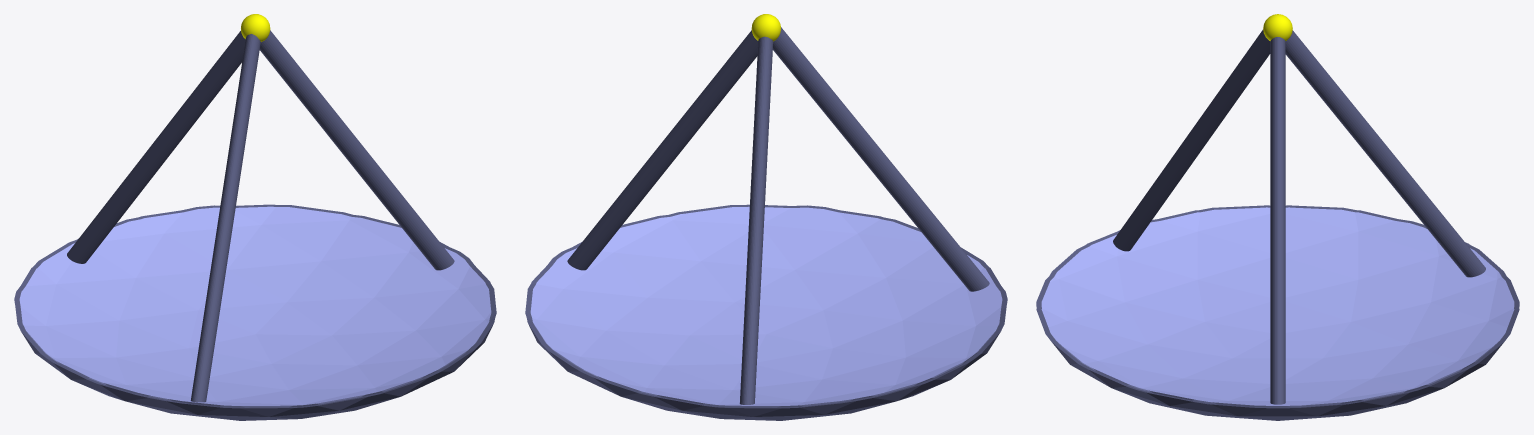
Rendered from swarm_member.glb.
The picture shows the model from 3 angles, left to right: view 1: azimuth 30°, elevation 25°; view 2: azimuth 150°, elevation 25°; view 3: azimuth 270°, elevation 25°; orthographic projection.
Visible parts, largest first — view 1: Icosphere, Icosphere.001, Cylinder.001, Cylinder, Cylinder.003, Icosphere.002; view 2: Icosphere, Icosphere.001, Cylinder, Cylinder.001, Cylinder.003, Icosphere.002; view 3: Icosphere, Icosphere.001, Cylinder.003, Cylinder.001, Cylinder, Icosphere.002.
Part boxes in pixels (x1,y1,x2,y2): Icosphere: (19,206,491,407); Icosphere.001: (14,204,496,420); Cylinder.001: (259,30,454,270); Cylinder: (190,34,260,402); Cylinder.003: (67,31,245,263); Icosphere.002: (241,14,270,41); Icosphere: (530,206,1002,407); Icosphere.001: (525,204,1007,420); Cylinder: (773,27,989,291); Cylinder.001: (567,30,758,270); Cylinder.003: (739,36,773,404); Icosphere.002: (751,14,780,41); Icosphere: (1041,207,1514,406); Icosphere.001: (1036,205,1519,420); Cylinder.003: (1285,30,1485,277); Cylinder.001: (1270,37,1285,404); Cylinder: (1113,29,1270,251); Icosphere.002: (1263,14,1292,40).
Size of the model in its own units: 2.06 by 1.63 by 2.06.
